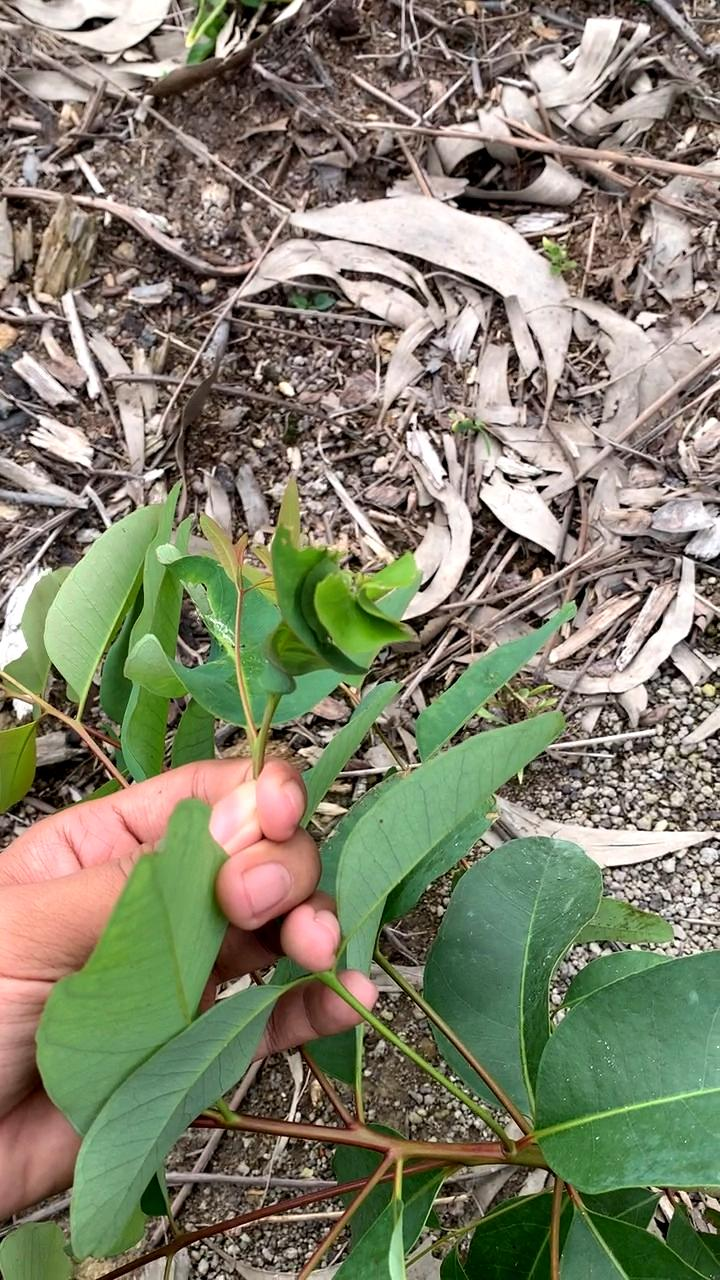Leaf Roller - Leaf: (256, 513, 431, 701)
